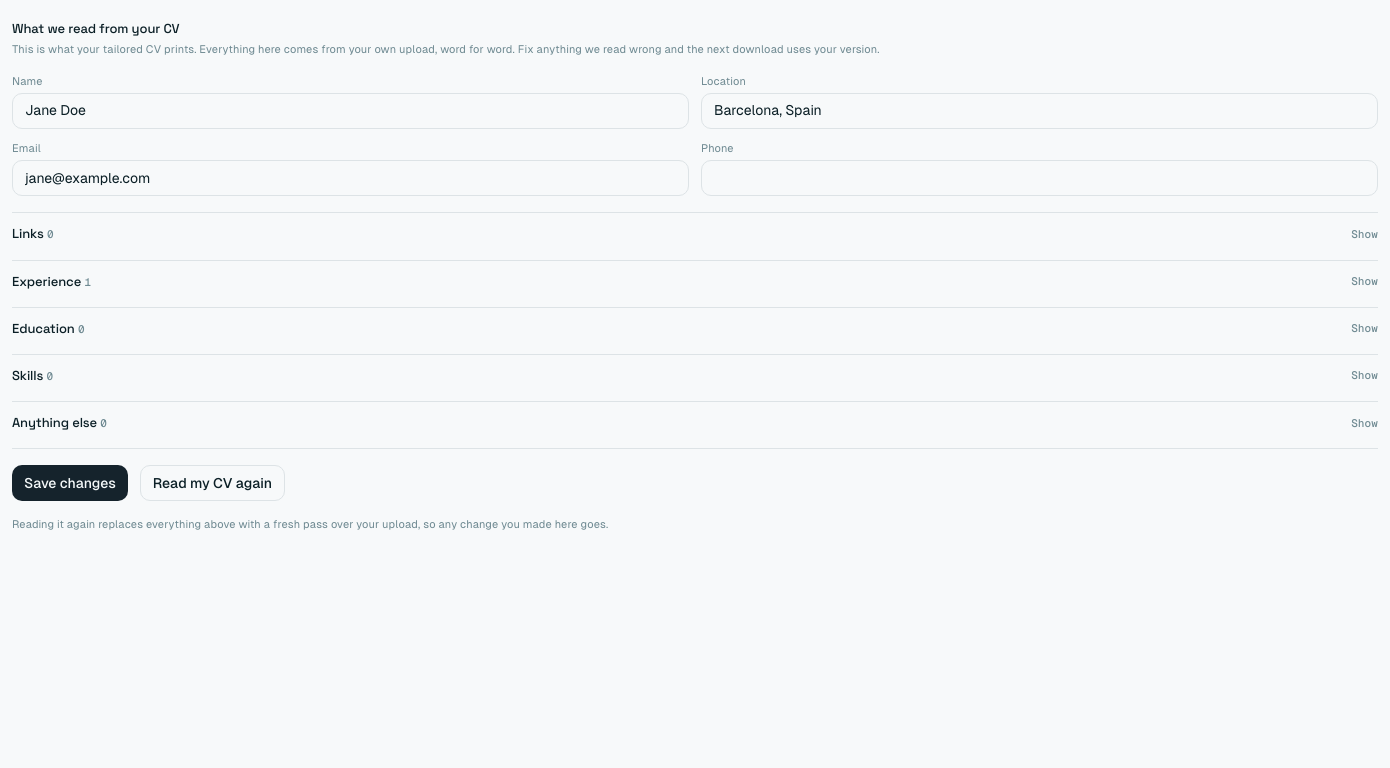
Test: CvEditor › 'Read my CV again' re-runs the one parse and shows what came back
Expected: the field showing "Jane Doe" is shown, [12, 93, 689, 129]
Click the button "Read my CV again" at (212, 483), box [140, 465, 285, 501]
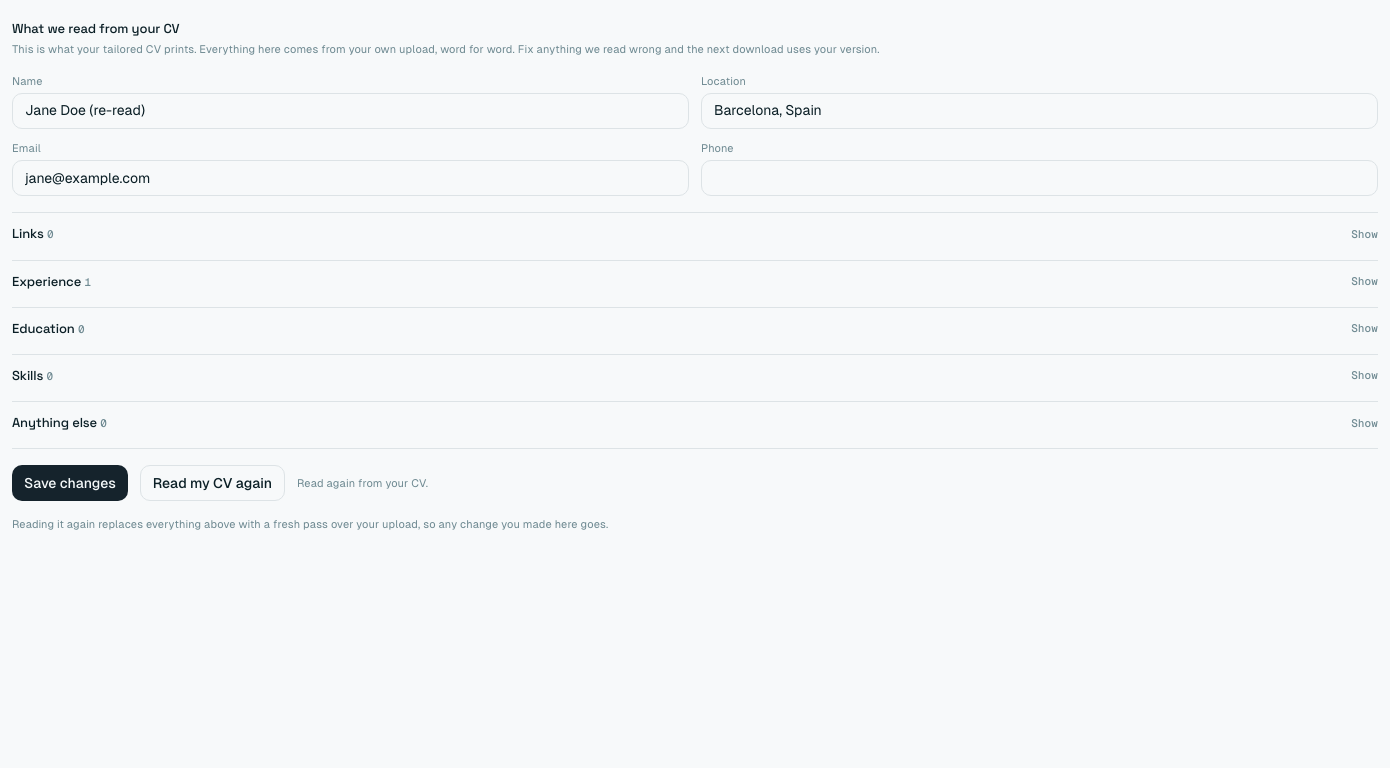
Expected: the field showing "Jane Doe (re-read)" is shown, [12, 93, 689, 129]
